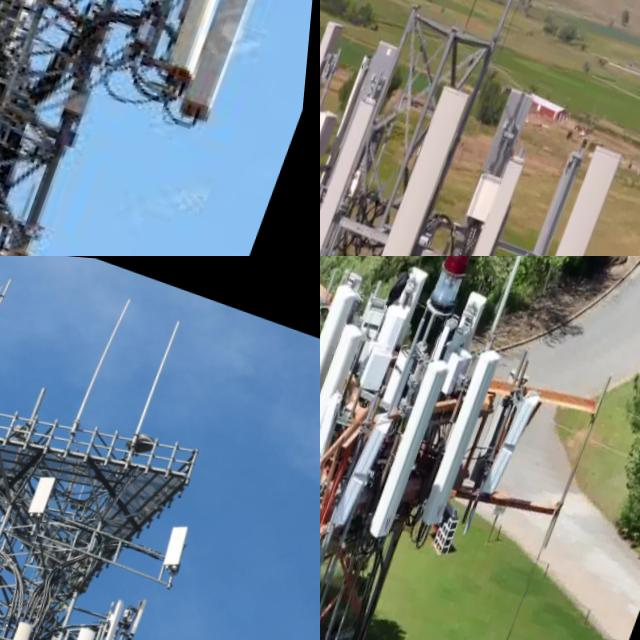GSM Antenna: (347, 66, 482, 256), (369, 340, 463, 545), (492, 121, 630, 256), (425, 335, 513, 530), (179, 0, 301, 128), (320, 75, 393, 256), (320, 306, 375, 519), (443, 136, 534, 256), (512, 125, 594, 256), (157, 0, 265, 85), (320, 4, 356, 256), (320, 267, 364, 462), (355, 336, 403, 398), (161, 511, 201, 566), (29, 463, 65, 513), (102, 592, 133, 640), (132, 584, 160, 636), (78, 617, 106, 640), (17, 615, 42, 640)
